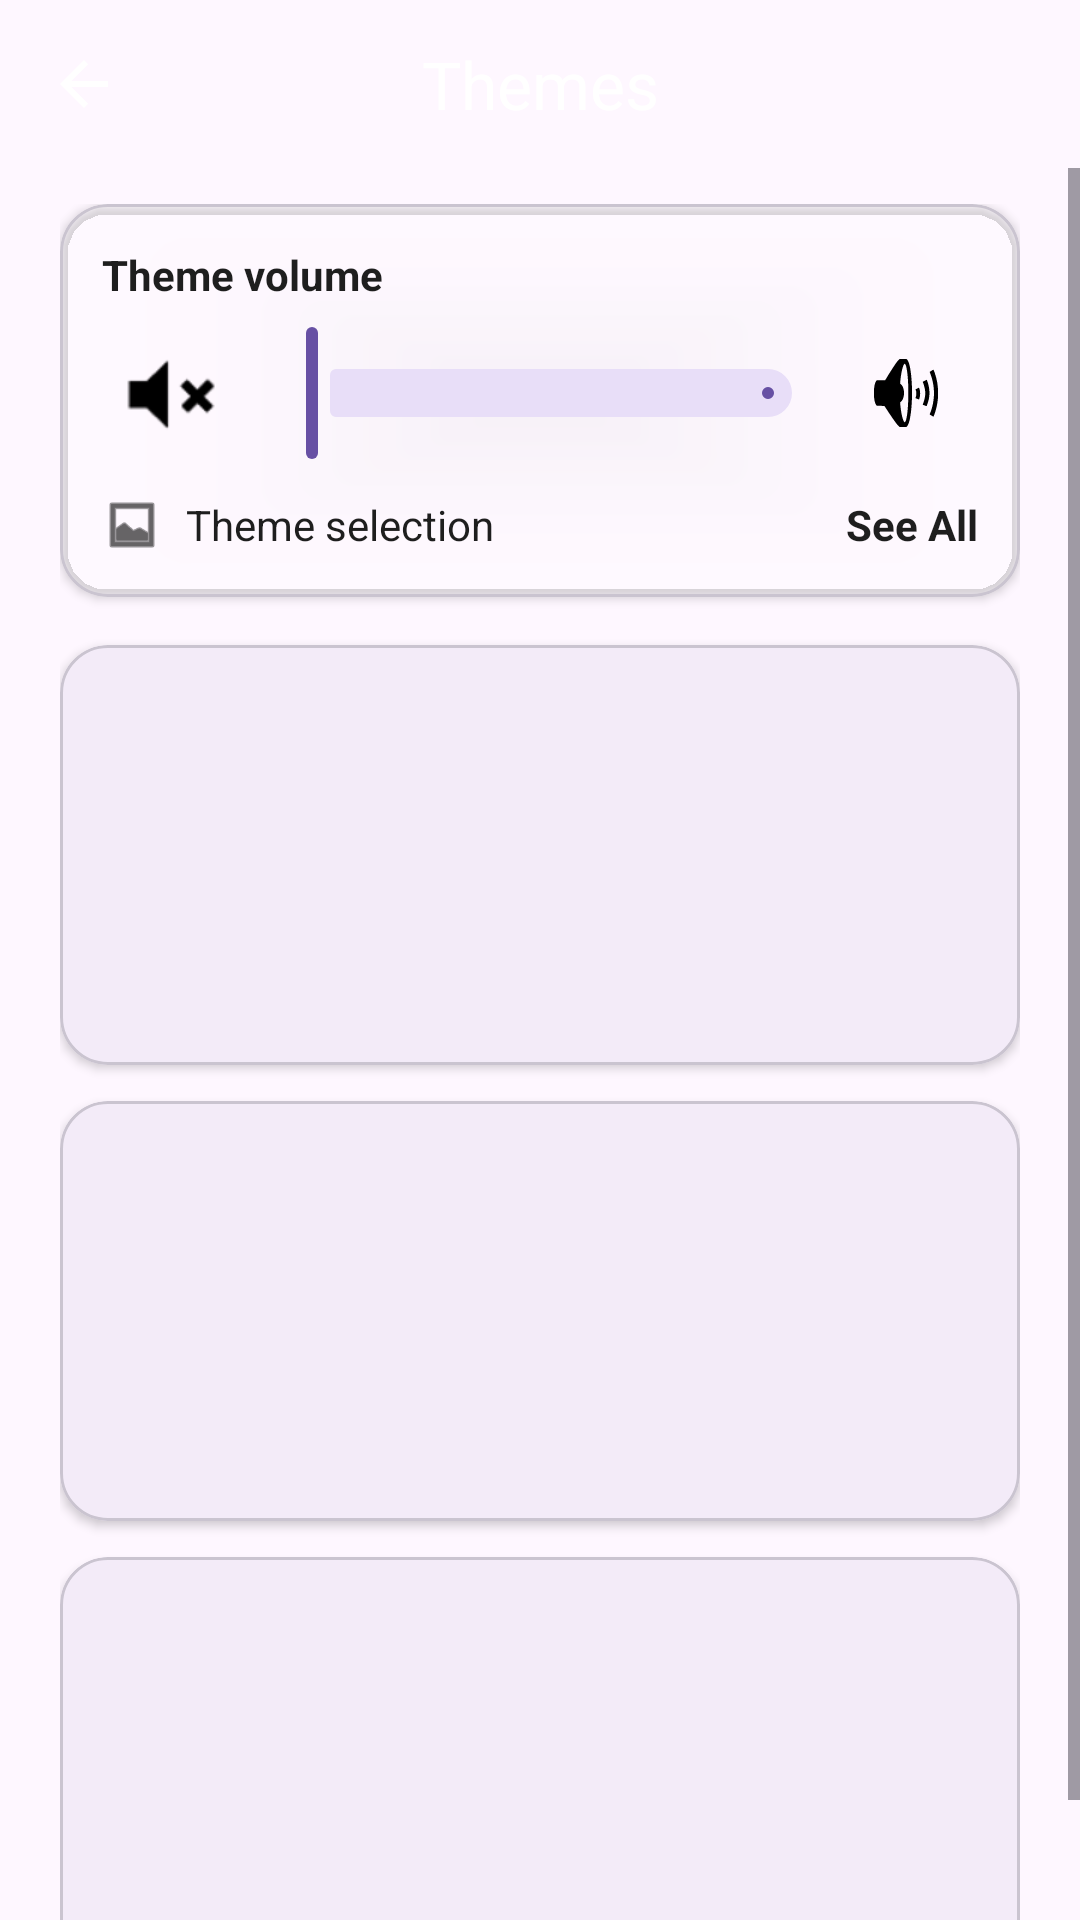

Icons on this 1080×1920 Android screen, each with its box as (x1, y1, x2, y2):
Max volume: (874, 359, 938, 427)
Mute: (127, 360, 215, 428)
